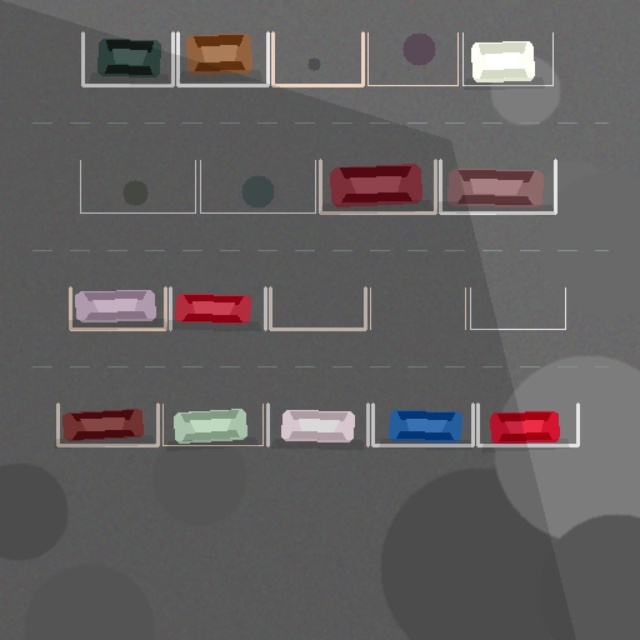space-empty: (80, 160, 195, 213), (200, 160, 315, 213), (273, 33, 363, 85), (367, 33, 457, 85), (270, 287, 365, 329), (370, 287, 465, 329), (470, 287, 565, 329)
space-occupied: (320, 160, 435, 213), (440, 160, 555, 213), (83, 33, 173, 85), (177, 33, 267, 85), (463, 33, 553, 85), (58, 404, 158, 445), (162, 404, 262, 445), (268, 404, 368, 445), (372, 404, 472, 445), (478, 404, 578, 445), (70, 287, 165, 329), (170, 287, 265, 329)
